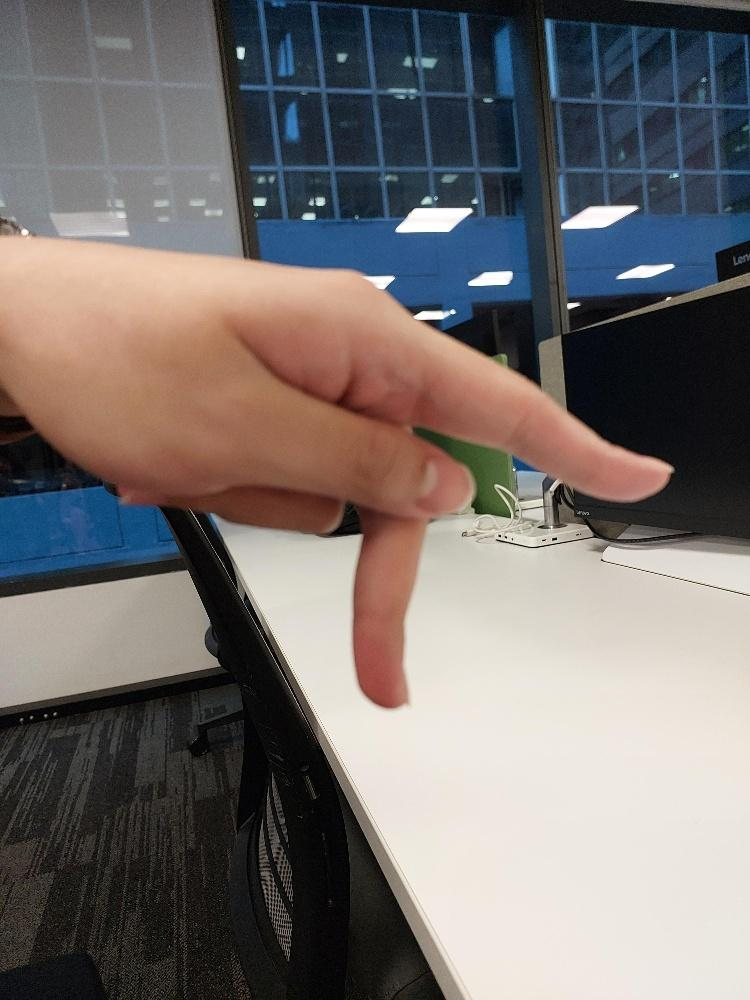p: (132, 260, 675, 705)
